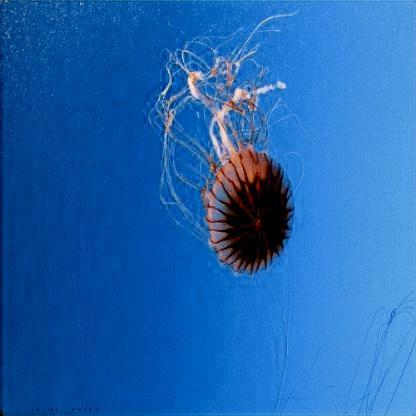Moon: (157, 41, 297, 276)
